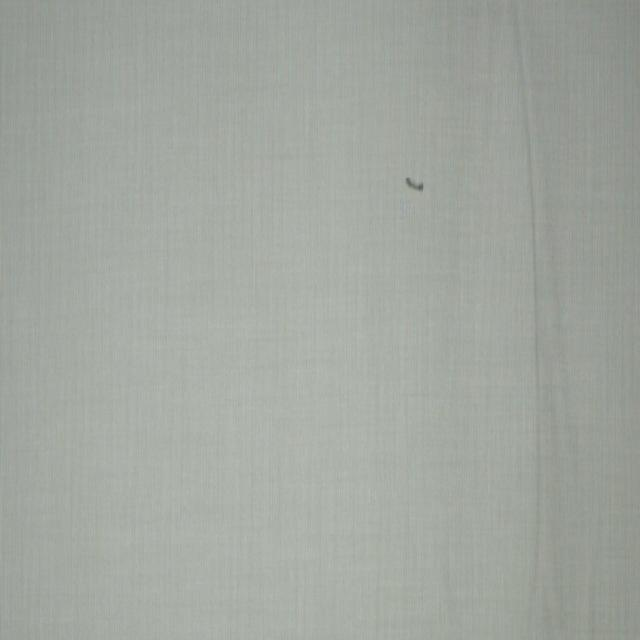dirty: (404, 175, 425, 193)
